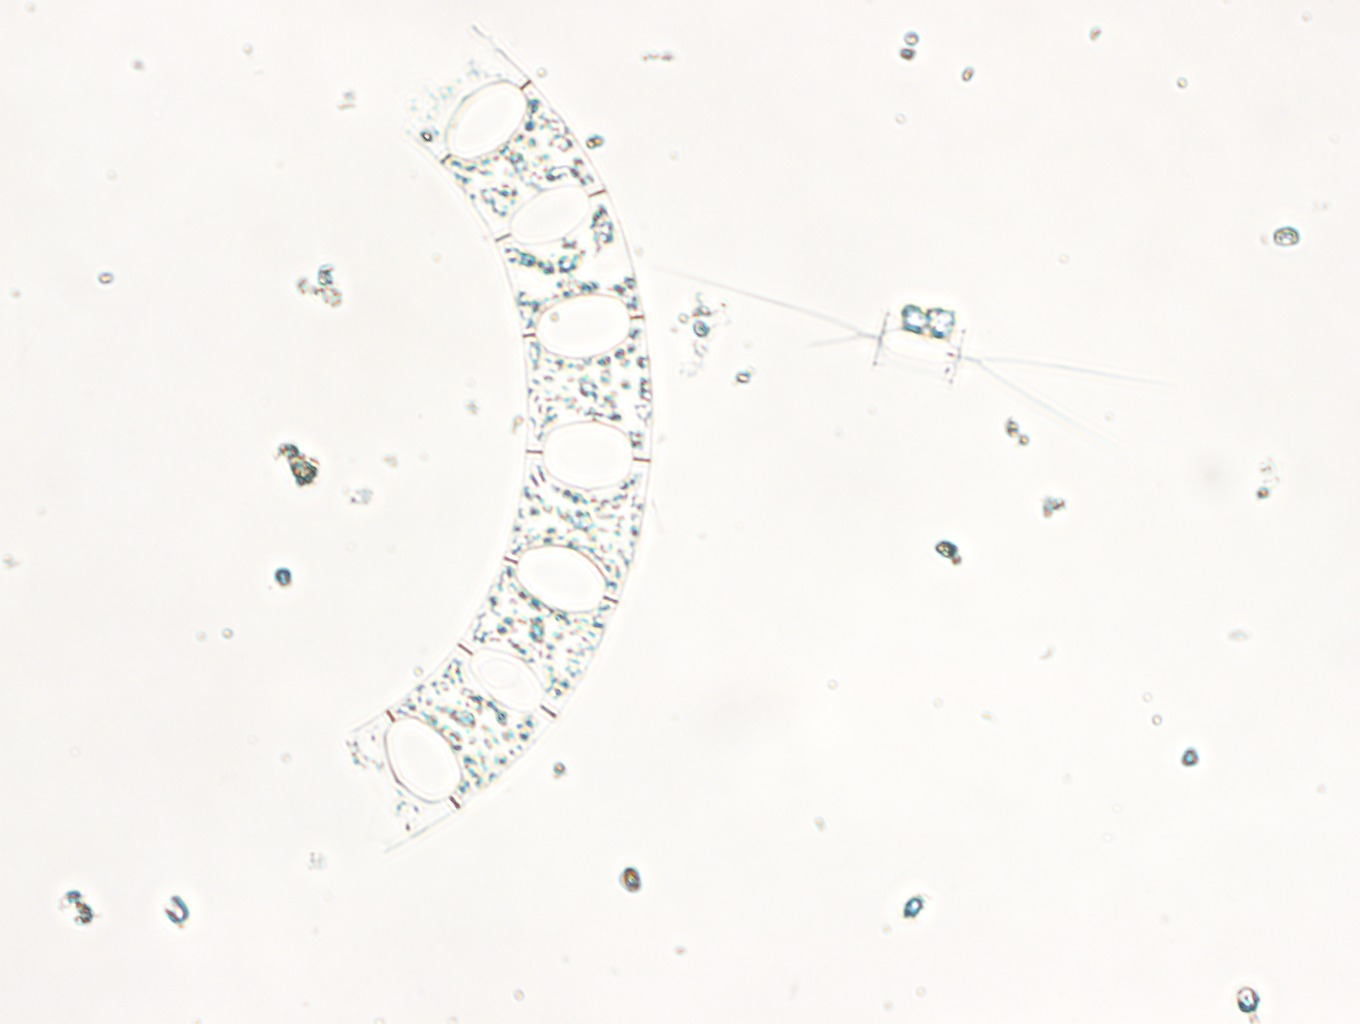chaetoceros: (655, 264, 1161, 451)
eucampia: (338, 26, 653, 855)
